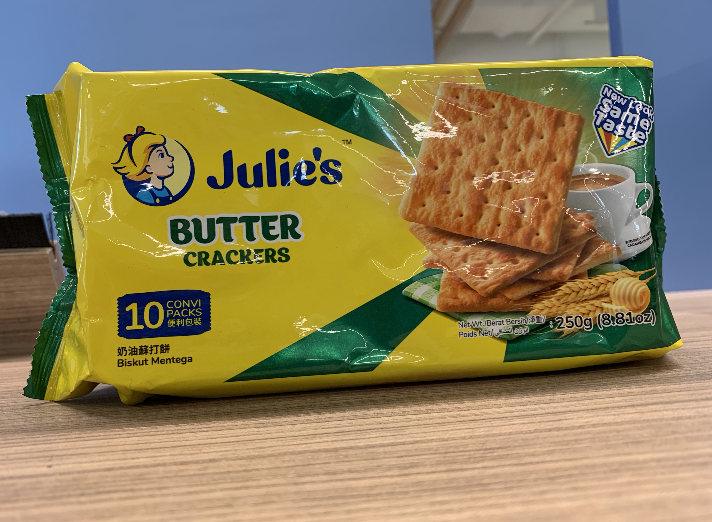crackers_200g-299g: (122, 81, 657, 347)
